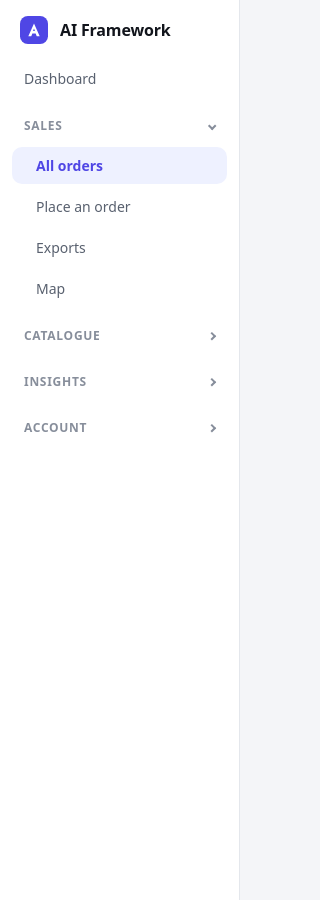
Test: Sidebar › marks a folded group that holds the current page with a dot
Step 1. Click the button "Sales" → click(120, 126), box [12,109,227,143]
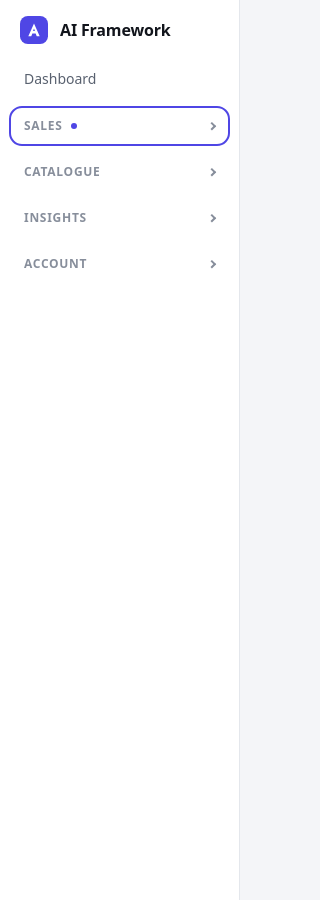
Expected: the element with class "sidebar__dot" is shown, [71,123,77,129]
